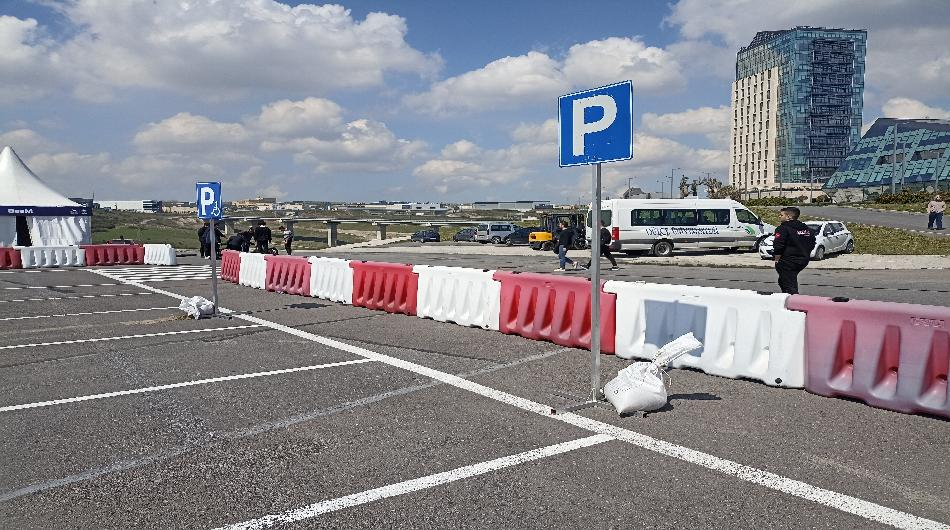engelli_park: (193, 179, 225, 218)
park: (553, 75, 641, 174)
